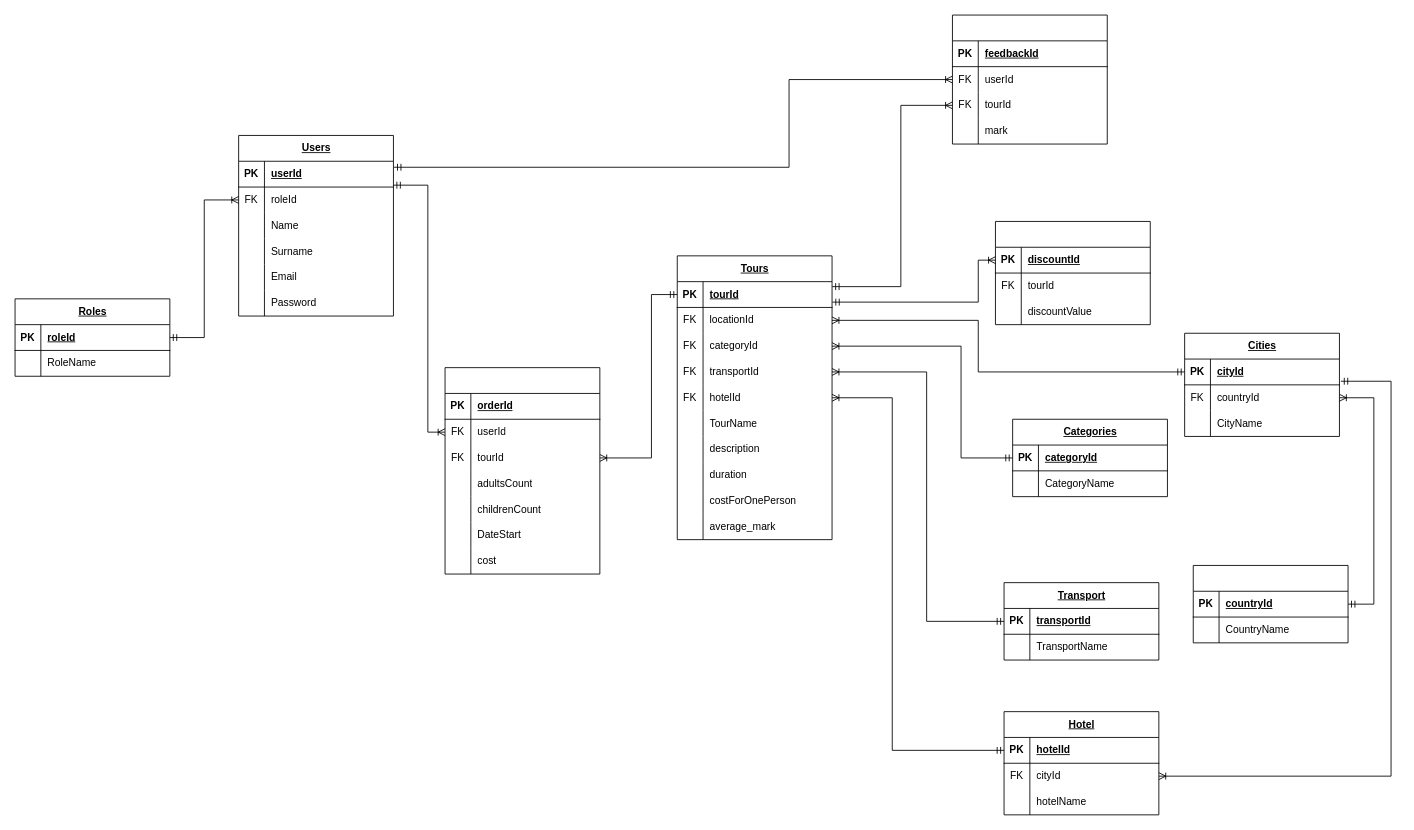
This 1414x830 diagram has some shape labels left out. The shapes that lost their labels are listed below. From the top down, each one's box as (x1, y1, x2, y2) in pixels, then its label:
(952, 14, 1107, 144): Feedbacks
(995, 221, 1150, 325): Discounts
(444, 367, 600, 574): Orders
(1192, 565, 1348, 643): Countries
